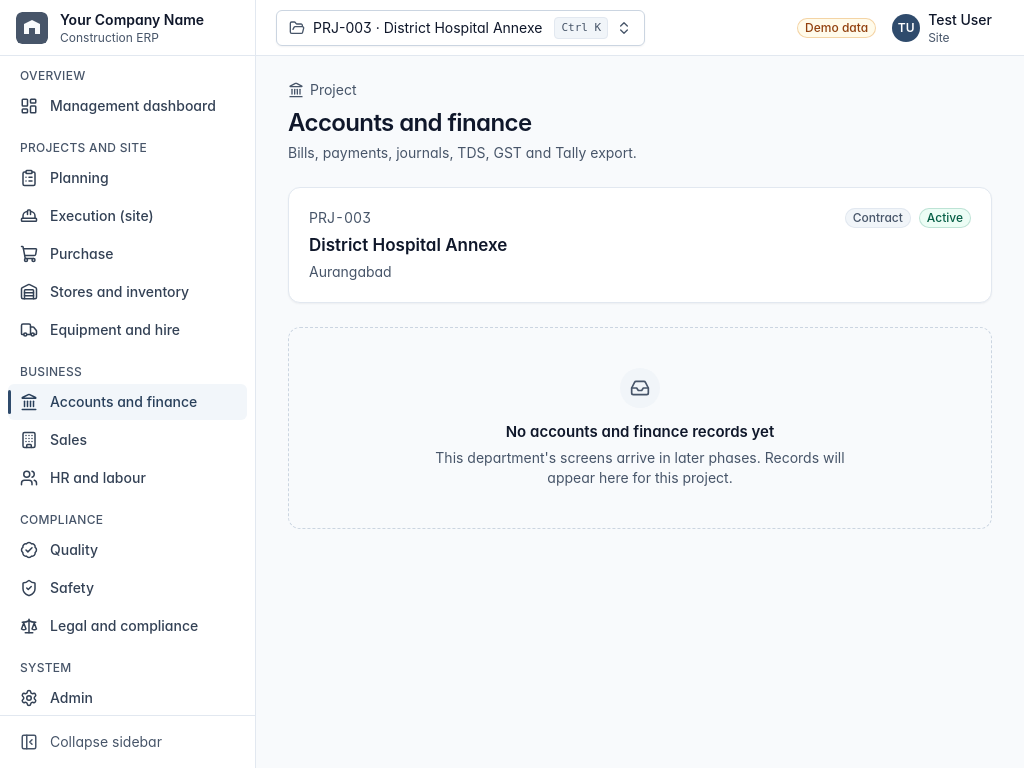
Test: sidebar › keeps the project choice when moving between departments
The image size is (1024, 768).
Expected: the heading "District Hospital Annexe" is shown, [309,232,507,258]
Step 1. Click the link "Stores and inventory" → click(105, 292), box [20,283,189,301]
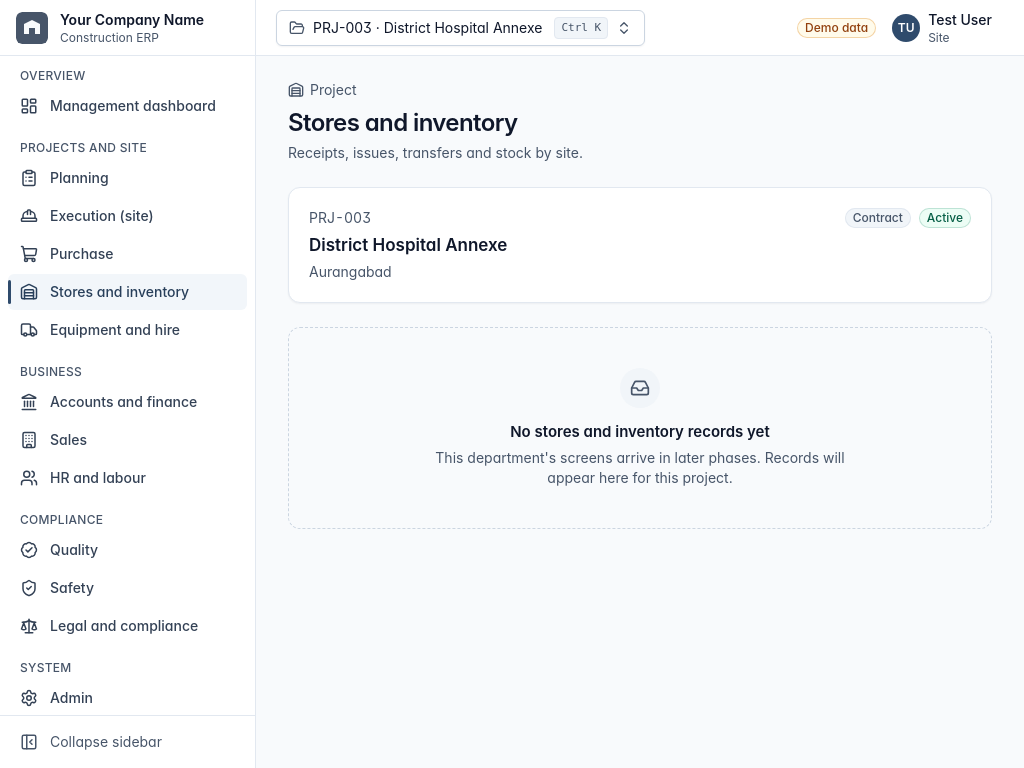
Now the heading "Stores and inventory" is shown, box [288,108,518,137]
